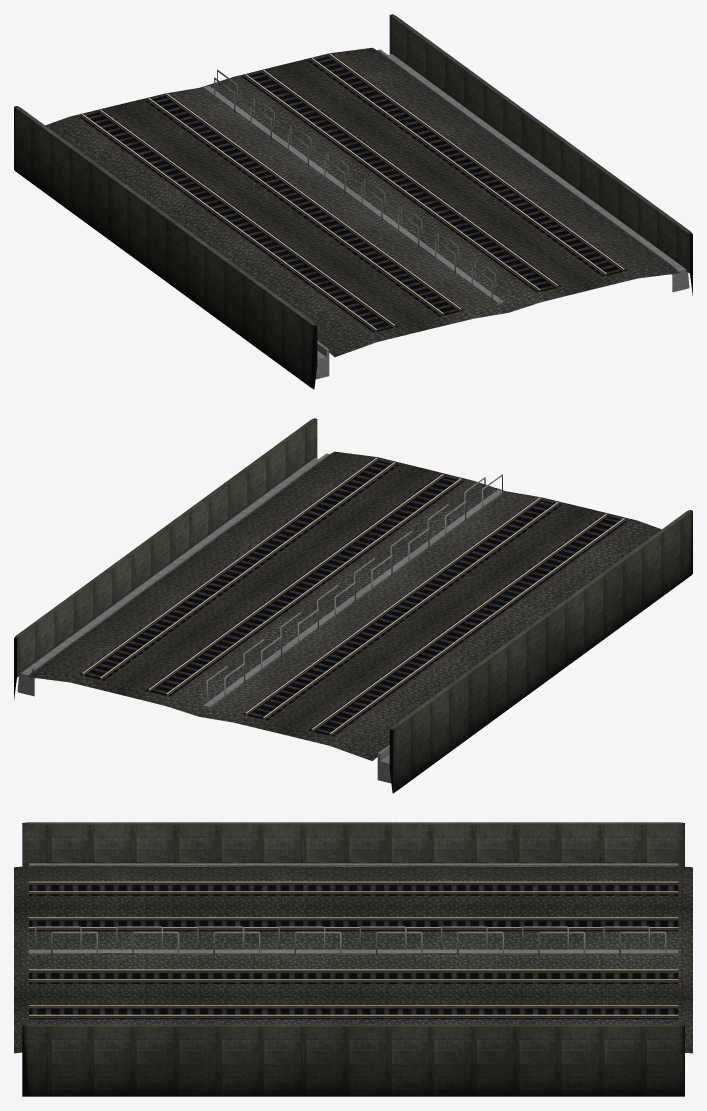
The model's file is 4RAIL_TOBU00.glb.
The picture shows the model from 3 angles, top to bottom: view 1: azimuth 30°, elevation 25°; view 2: azimuth 150°, elevation 25°; view 3: azimuth 270°, elevation 25°; orthographic projection. The views are drawn at different scales.
Visible parts, largest first — view 1: LeftWall; view 2: LeftWall; view 3: LeftWall.
Boxes of the visible parts, x1,y1,x2,y2 form: LeftWall: (14, 14, 692, 389); LeftWall: (14, 418, 692, 793); LeftWall: (14, 822, 692, 1096).
Size of the model in its own units: 74.43 by 11.93 by 105.
14 materials, 13 textured.
